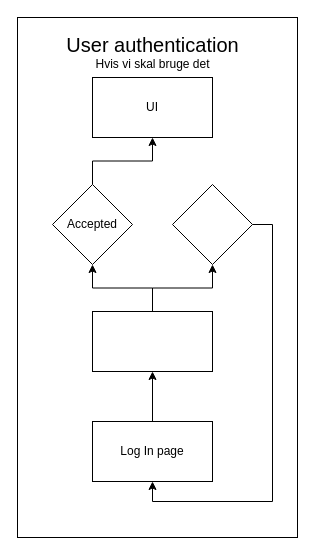
Some shapes in this 315 by 555 pixel diagram are drawn without their labels. The centre of each missing label's shape, as x and y in pixels:
"Authentication" goes at [152,341].
"Denied" goes at [212,224].
